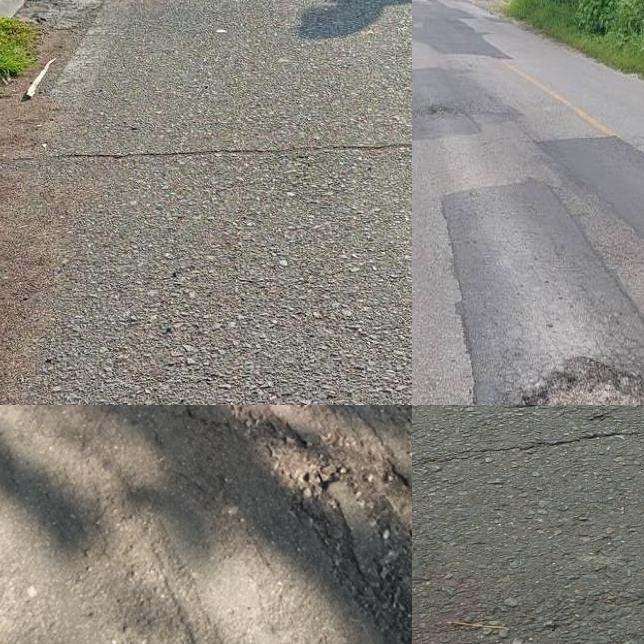Lubang: (522, 366, 644, 405)
Melintang: (21, 126, 412, 174)
Sambungan: (441, 177, 644, 405), (412, 65, 490, 141)
